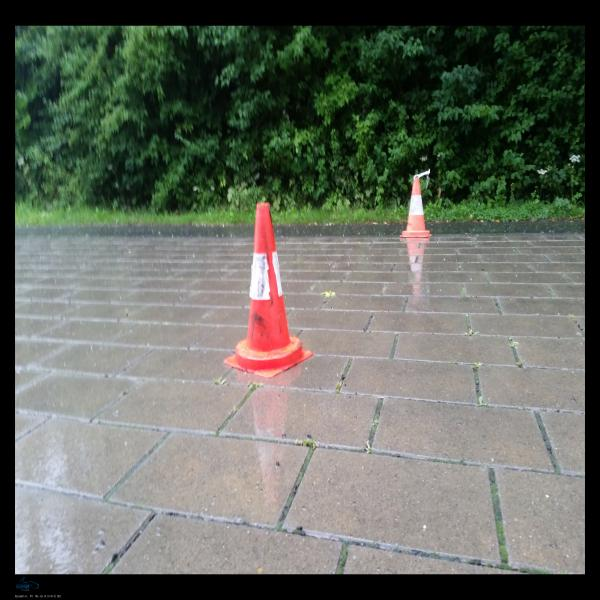orange_cone: (223, 203, 313, 378), (400, 178, 431, 238)
